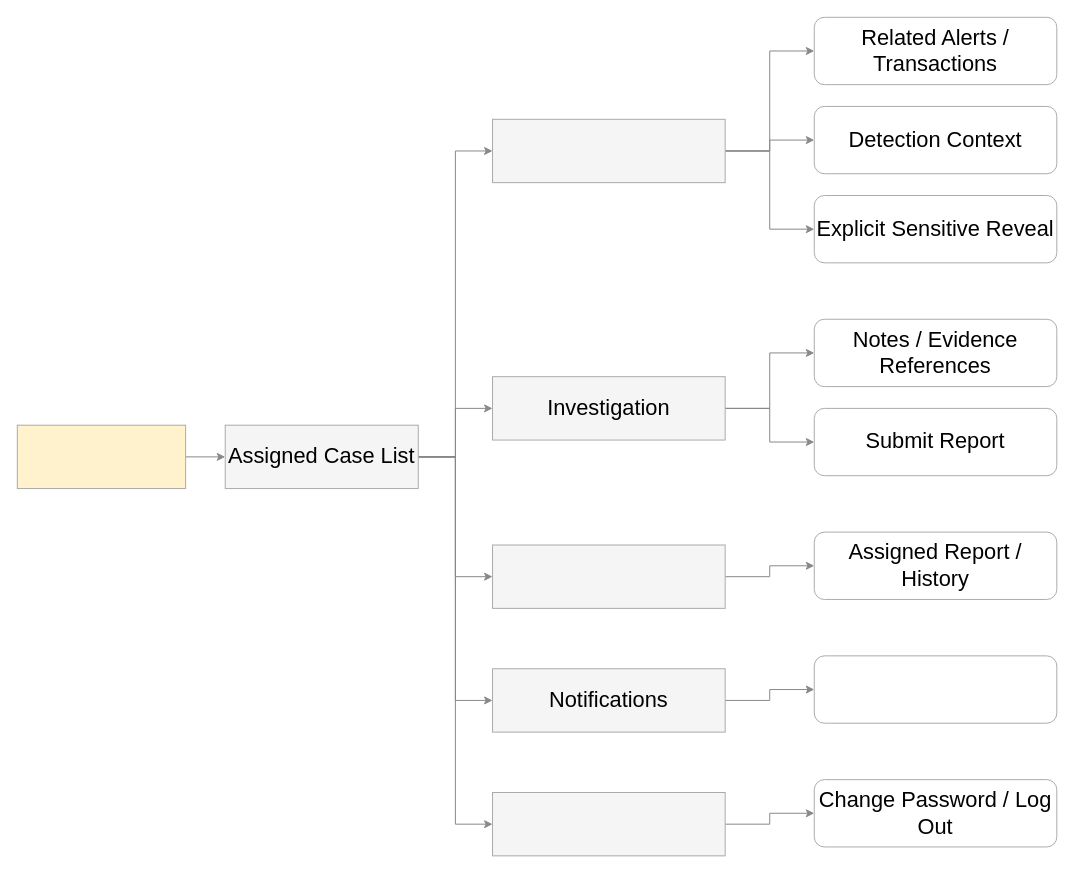
Image size: 1074x873. Some labels were removed from this diagram. Here are the shapes that lost their labels. From the top down, the box of each, then its label:
(492, 118, 725, 183): Assigned Case Detail
(16, 424, 186, 489): Enterprise Login
(492, 544, 725, 608): Investigation Reports
(813, 655, 1057, 723): Assigned Case Link
(492, 792, 725, 856): Account
